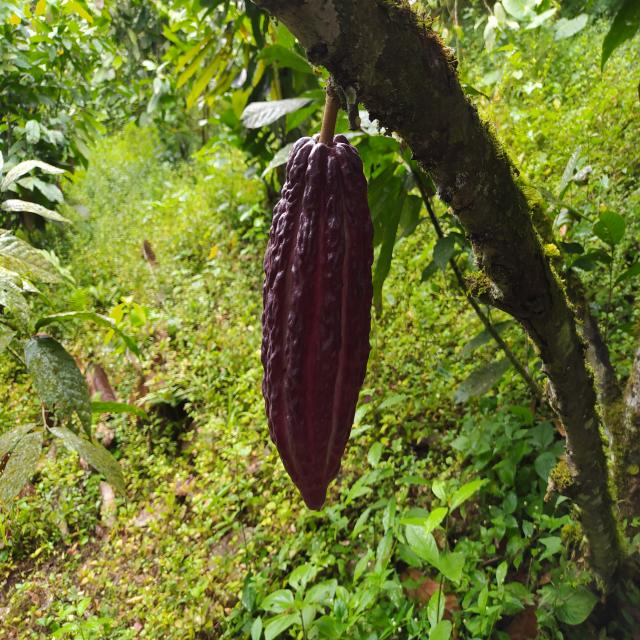Sana: (258, 130, 370, 515)
